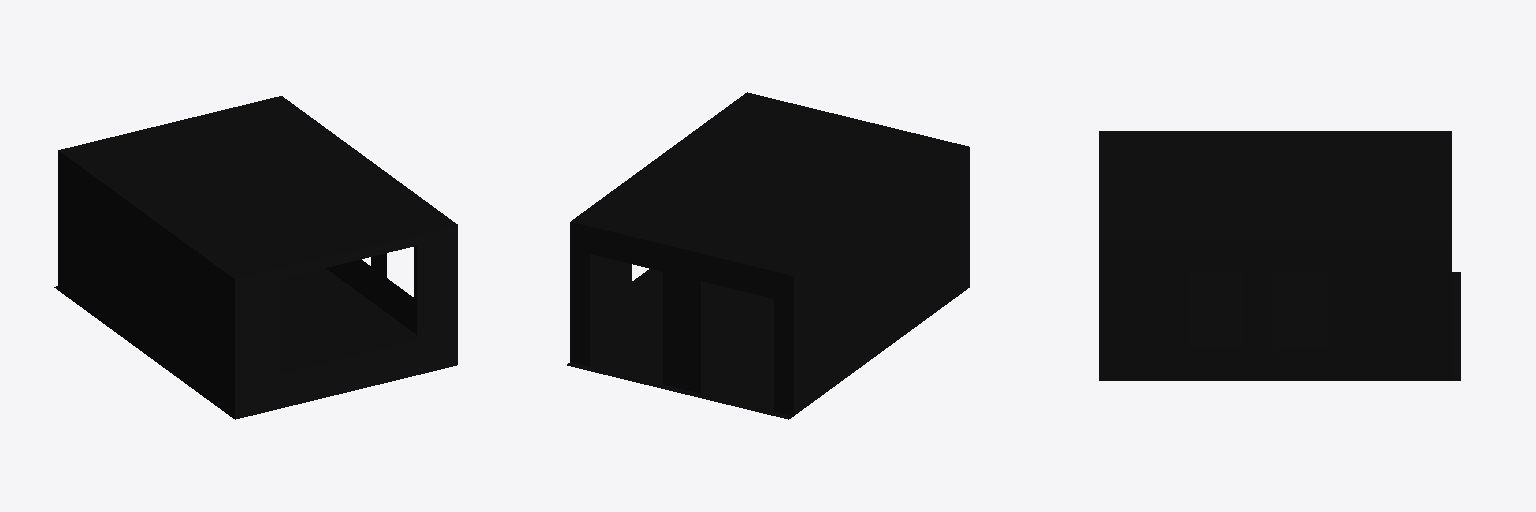
File: LivingRoom.obj
The picture shows the model from 3 angles: view 1: azimuth 30°, elevation 25°; view 2: azimuth 150°, elevation 25°; view 3: azimuth 270°, elevation 25°; orthographic projection.
Visible parts, largest first — view 1: Body; view 2: Body; view 3: Body.
Boxes of the visible parts, x1=… form: Body: x1=54, y1=96, x2=457, y2=419; Body: x1=567, y1=92, x2=969, y2=419; Body: x1=1099, y1=131, x2=1460, y2=380.
Size of the model in its own units: 2.63 by 1.58 by 3.7.